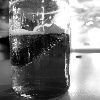beer: (7, 1, 72, 100)
